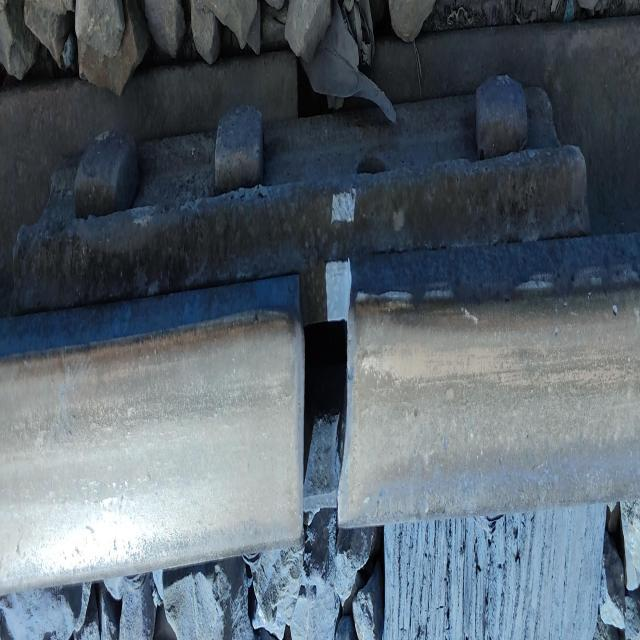Defective Joint: (16, 30, 640, 635)
